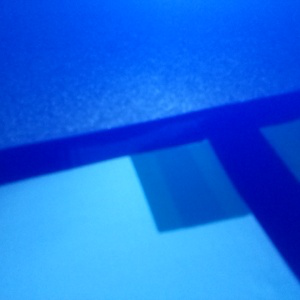bottom_left: (130, 122, 259, 232)
bottom_right: (238, 105, 300, 191)
